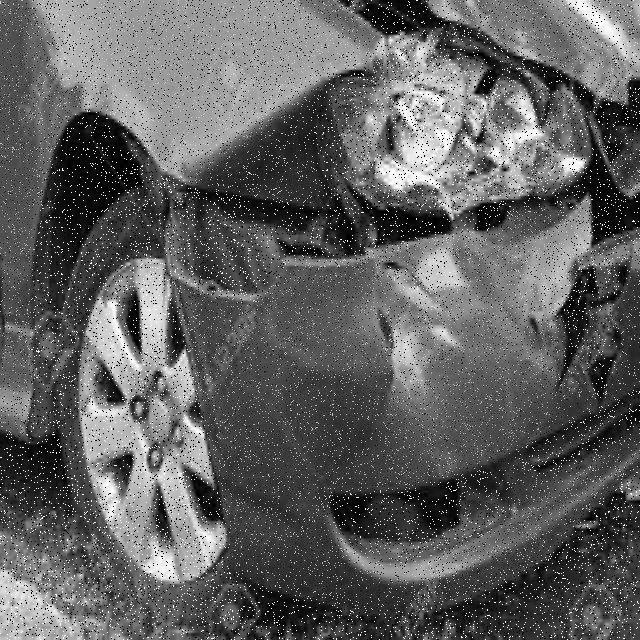Headlight-damage: (312, 1, 590, 236)
front-bumper-dent: (140, 182, 638, 594)
